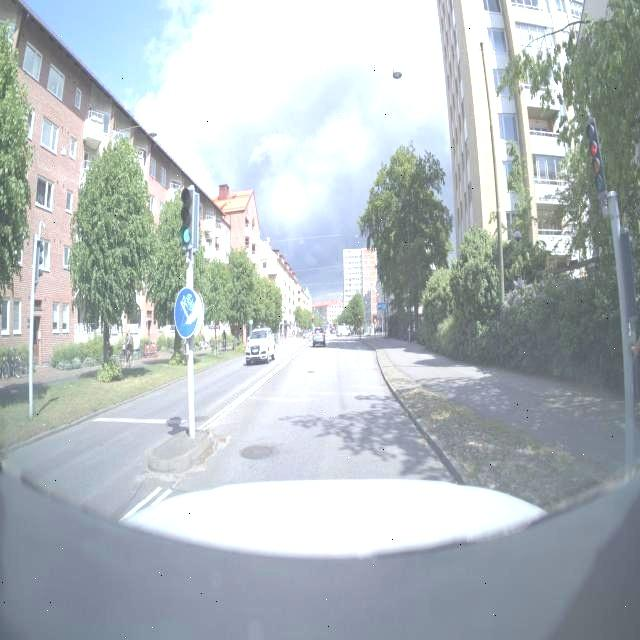Green: (166, 180, 211, 264)
Red: (557, 112, 626, 205)
